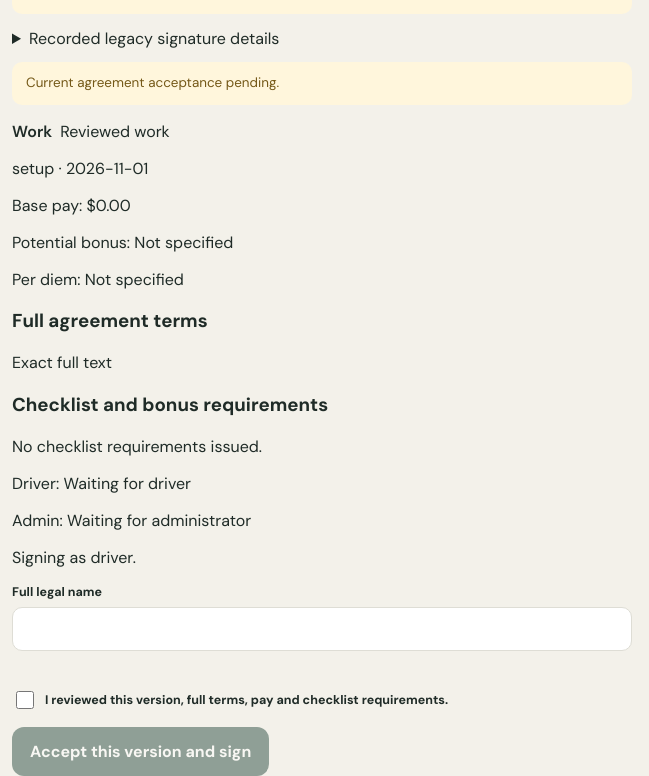
it: failed refresh after rejected signing hides stale signing controls
(page scrolled)
Expected: the text "Exact full text" is shown, [12, 352, 112, 373]
Type "Driver Name" into the field labelled "Full legal name" at (322, 629), box [12, 607, 632, 651]
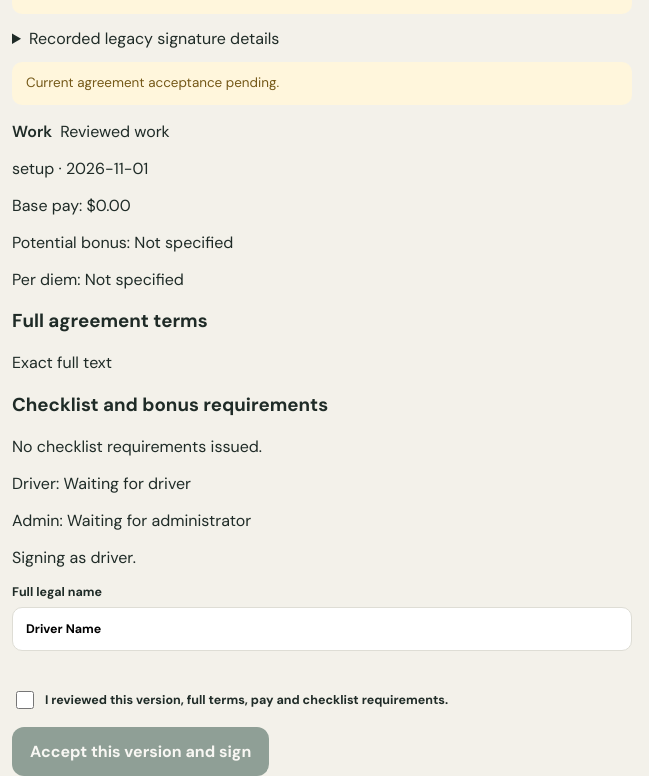
Click the checkbox at (25, 700), box [16, 691, 34, 709]
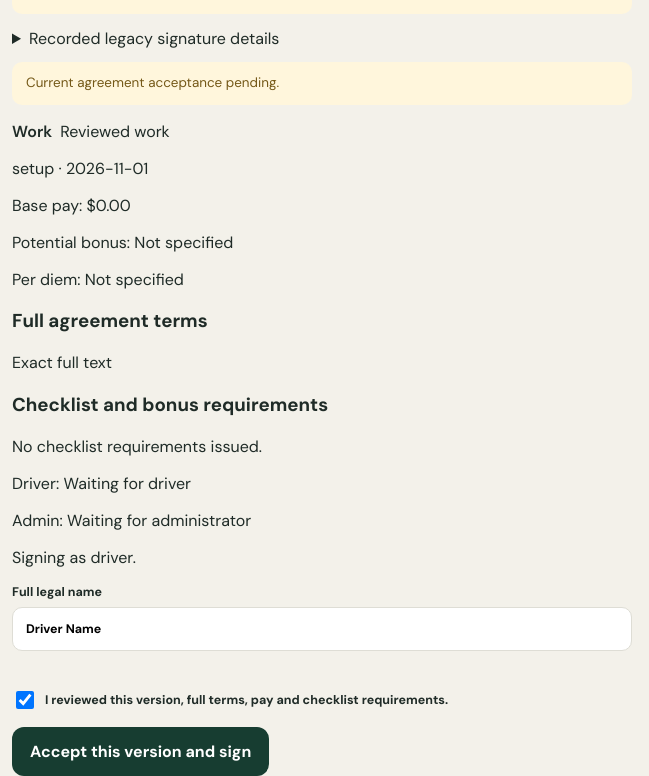
Click the button "Accept this version and sign" at (141, 751), box [12, 727, 269, 775]
(page scrolled)
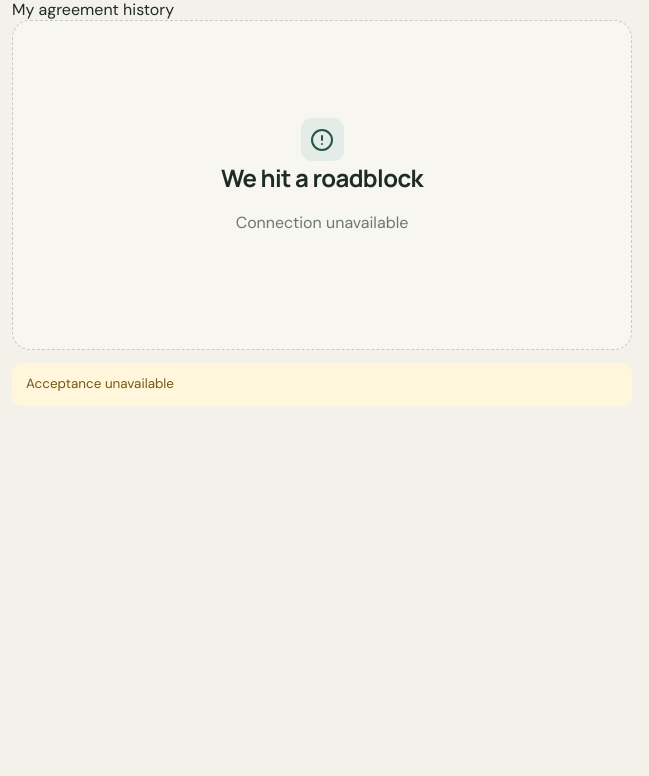
Result: the text "Connection unavailable" is shown at [236, 210, 408, 236]
Result: the button "Accept this version and sign" is gone
Result: the text "Acceptance unavailable" is shown at [12, 363, 632, 406]
